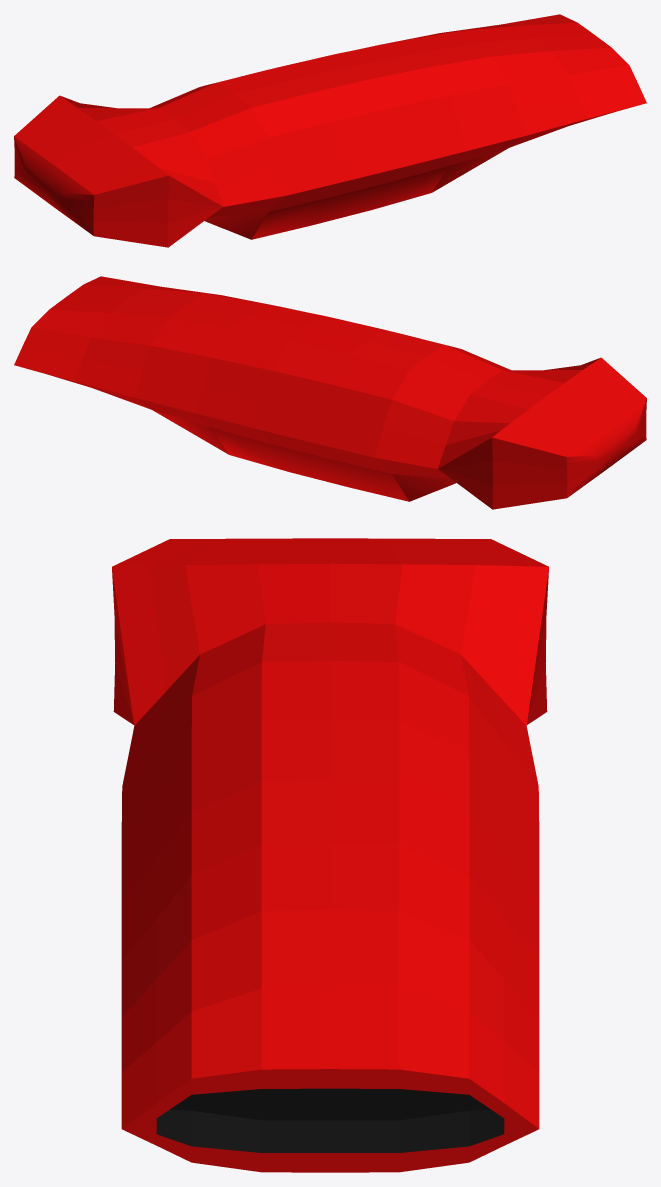
File: Cowl.05.air.glb
3 views of the same model, one above another, from view 1: azimuth 30°, elevation 25°; view 2: azimuth 150°, elevation 25°; view 3: azimuth 270°, elevation 25° (orthographic). The views are drawn at different scales.
Parts seen in each view (by area): view 1: Air.001; view 2: Air.001; view 3: Air.001.
Part boxes in pixels (x1,y1,x2,y2): Air.001: (14, 14, 646, 247); Air.001: (14, 276, 646, 509); Air.001: (112, 538, 548, 1172).
Bounding box in the file's own units: 0.9074 × 0.2108 × 0.3121.
